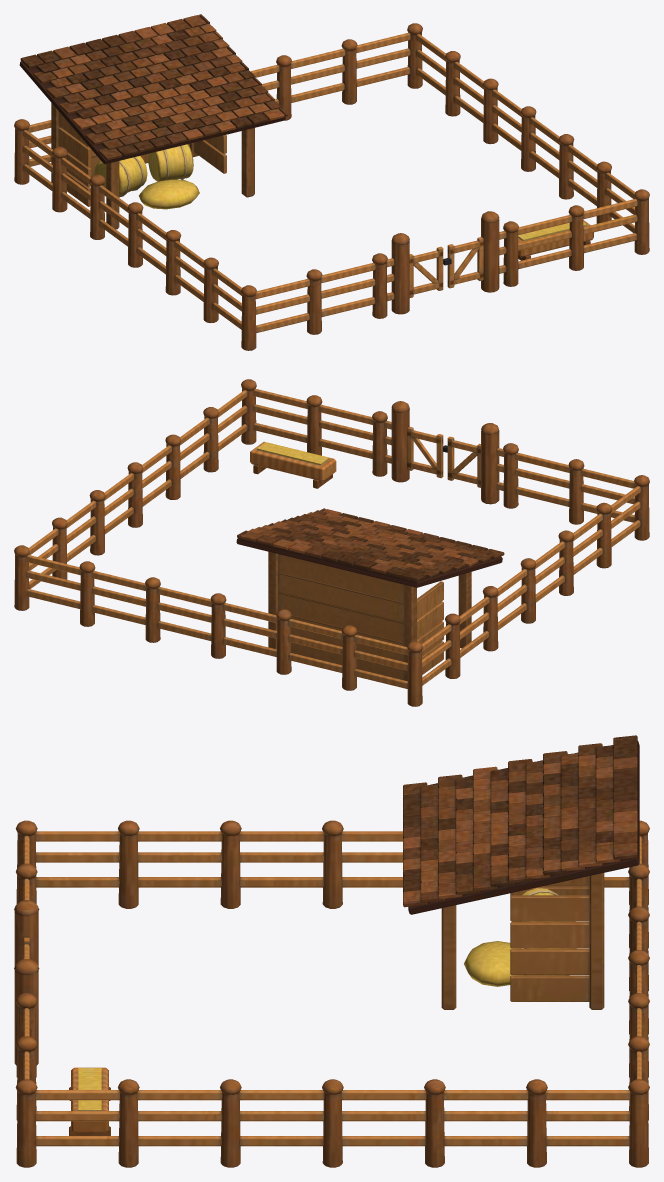
File: pasture.glb
3 renders of one model, top to bottom at view 1: azimuth 30°, elevation 25°; view 2: azimuth 150°, elevation 25°; view 3: azimuth 270°, elevation 25°, orthographic. The views are drawn at different scales.
Parts seen in each view (by area): view 1: pasture; view 2: pasture; view 3: pasture.
Boxes of the visible parts, x1=… form: pasture: x1=14, y1=14, x2=649, y2=350; pasture: x1=14, y1=379, x2=649, y2=706; pasture: x1=14, y1=735, x2=649, y2=1167.
Bounding box in the file's own units: 3 × 0.9345 × 3.01.
1 material, 1 textured.
